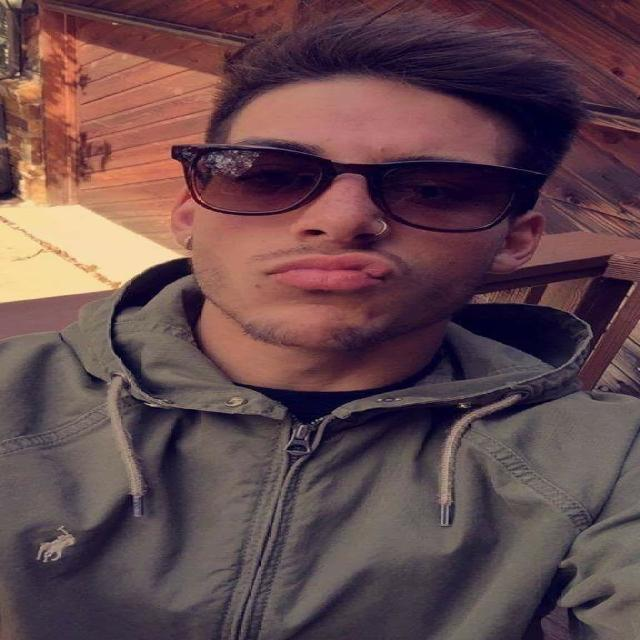Earring: (368, 218, 389, 238)
